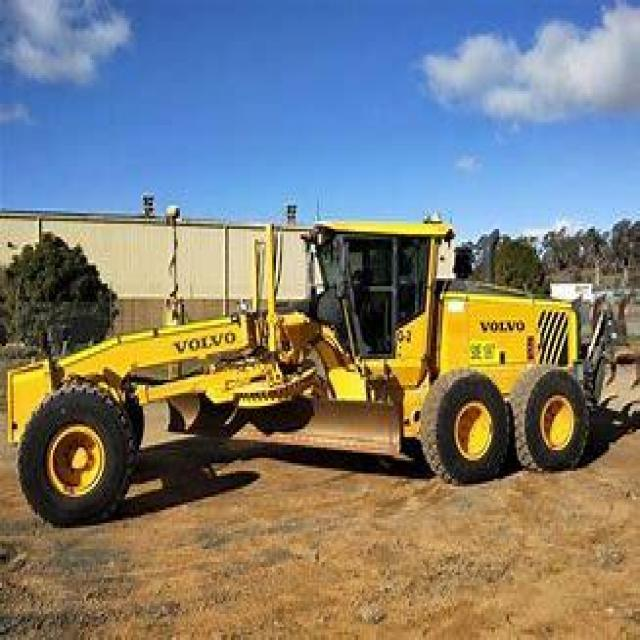Grader: (18, 187, 606, 531)
